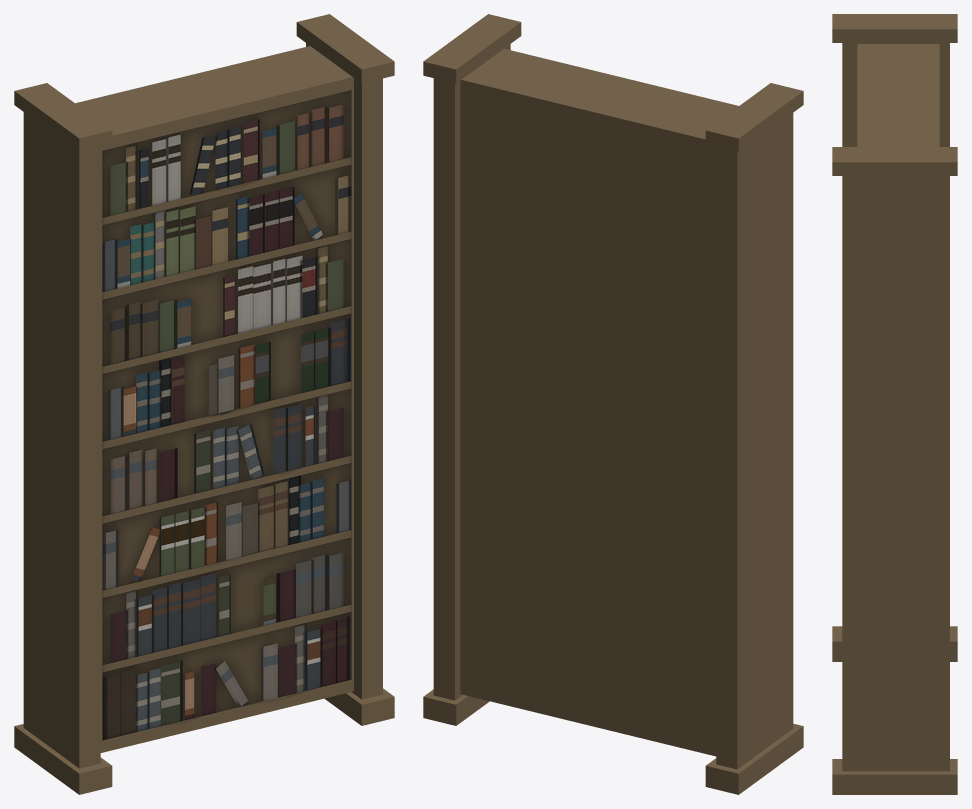
The model's file is SM_Prop_Bookcase_Optimised_01.fbx.
3 views of the same model, side by side, from view 1: azimuth 30°, elevation 25°; view 2: azimuth 150°, elevation 25°; view 3: azimuth 270°, elevation 25° (orthographic). The views are drawn at different scales.
Parts seen in each view (by area): view 1: SM_Prop_Bookcase_Optimised_01; view 2: SM_Prop_Bookcase_Optimised_01; view 3: SM_Prop_Bookcase_Optimised_01.
Part boxes in pixels (x1=…): SM_Prop_Bookcase_Optimised_01: x1=14, y1=14, x2=394, y2=794; SM_Prop_Bookcase_Optimised_01: x1=423, y1=14, x2=803, y2=794; SM_Prop_Bookcase_Optimised_01: x1=832, y1=14, x2=957, y2=794.
Bounding box in the file's own units: 251 × 500 × 89.74.
